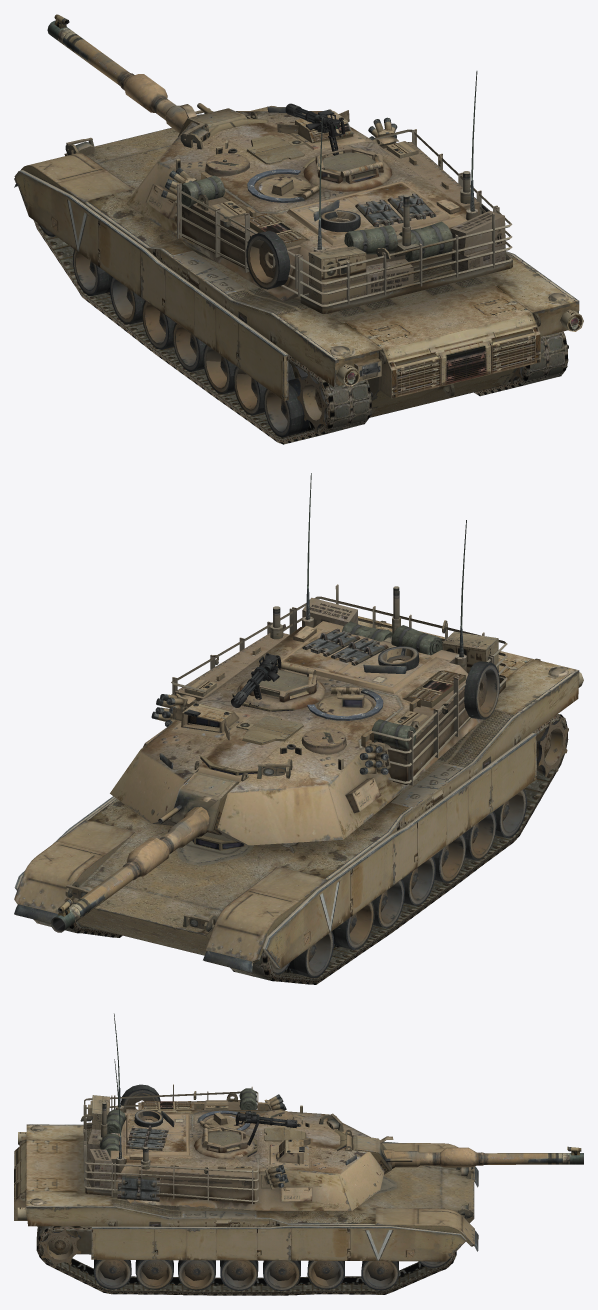
Rendered from abrams.glb.
3 renders of one model, top to bottom at view 1: azimuth 30°, elevation 25°; view 2: azimuth 150°, elevation 25°; view 3: azimuth 270°, elevation 25°, orthographic. The views are drawn at different scales.
Parts seen in each view (by area): view 1: Main_Body, Main_Turret, Main_Wheels, Track, Main_Stuff, Main_Barrel, Main_Rotor, Minigun; view 2: Main_Turret, Main_Body, Main_Wheels, Main_Barrel, Track, Main_Stuff, Main_Rotor, Minigun; view 3: Main_Body, Main_Turret, Main_Wheels, Track, Main_Barrel, Main_Stuff, Main_Rotor, Minigun.
Part boxes in pixels (x1,y1,x2,y2): Main_Body: (14, 106, 583, 417); Main_Turret: (126, 71, 512, 313); Main_Wheels: (39, 224, 309, 437); Track: (33, 220, 568, 444); Main_Stuff: (181, 175, 505, 294); Main_Barrel: (47, 14, 247, 136); Main_Rotor: (297, 344, 568, 431); Minigun: (285, 103, 344, 137); Main_Turret: (110, 473, 507, 845); Main_Body: (14, 616, 583, 972); Main_Wheels: (77, 789, 526, 977); Main_Barrel: (51, 772, 238, 932); Track: (33, 714, 568, 984); Main_Stuff: (302, 597, 442, 749); Main_Rotor: (536, 717, 568, 777); Minigun: (231, 653, 281, 707); Main_Body: (14, 1124, 478, 1261); Main_Turret: (80, 1013, 384, 1210); Main_Wheels: (93, 1258, 449, 1291); Track: (36, 1226, 456, 1295); Main_Barrel: (351, 1135, 583, 1174); Main_Stuff: (87, 1088, 257, 1188); Main_Rotor: (39, 1228, 81, 1266); Minigun: (235, 1110, 297, 1127).
Size of the model in its own units: 3.45 by 4.21 by 9.69.
Materials: 4 (4 with a texture image).
